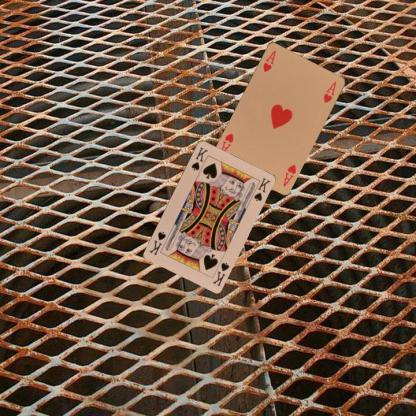Ah: (280, 161, 298, 188), (260, 47, 276, 73)
Ks: (188, 144, 210, 171), (210, 260, 230, 287)
